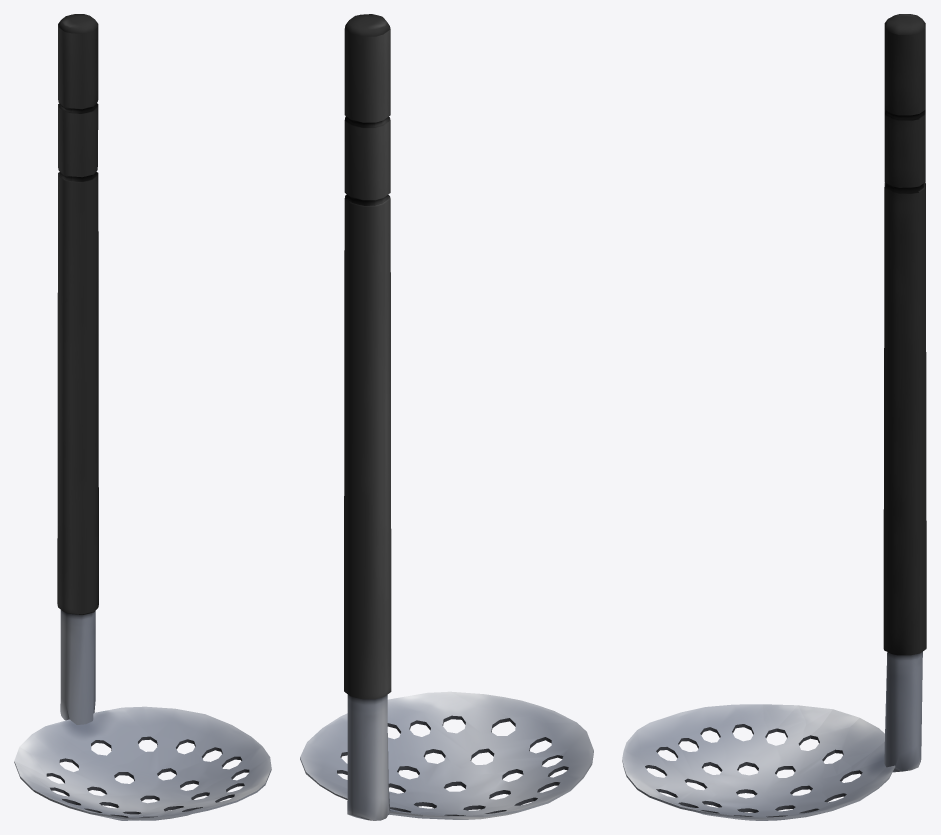
File: Otama_01.fbx
The picture shows the model from 3 angles, left to right: view 1: azimuth 30°, elevation 25°; view 2: azimuth 150°, elevation 25°; view 3: azimuth 270°, elevation 25°; orthographic projection. The views are drawn at different scales.
Visible parts, largest first — view 1: pCube3; view 2: pCube3; view 3: pCube3.
Part boxes in pixels (<box>): pCube3: <box>14,14,271,820</box>; pCube3: <box>300,14,593,820</box>; pCube3: <box>622,14,926,820</box>.
Size of the model in its own units: 302 by 965 by 342.
